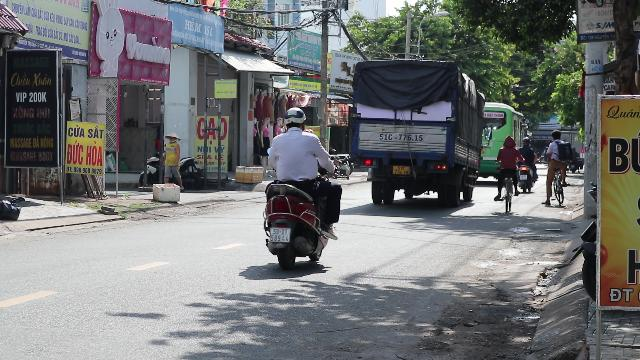helmet: (282, 106, 306, 130)
licenseplate: (270, 228, 290, 243)
motorcyclist: (257, 105, 343, 269)
